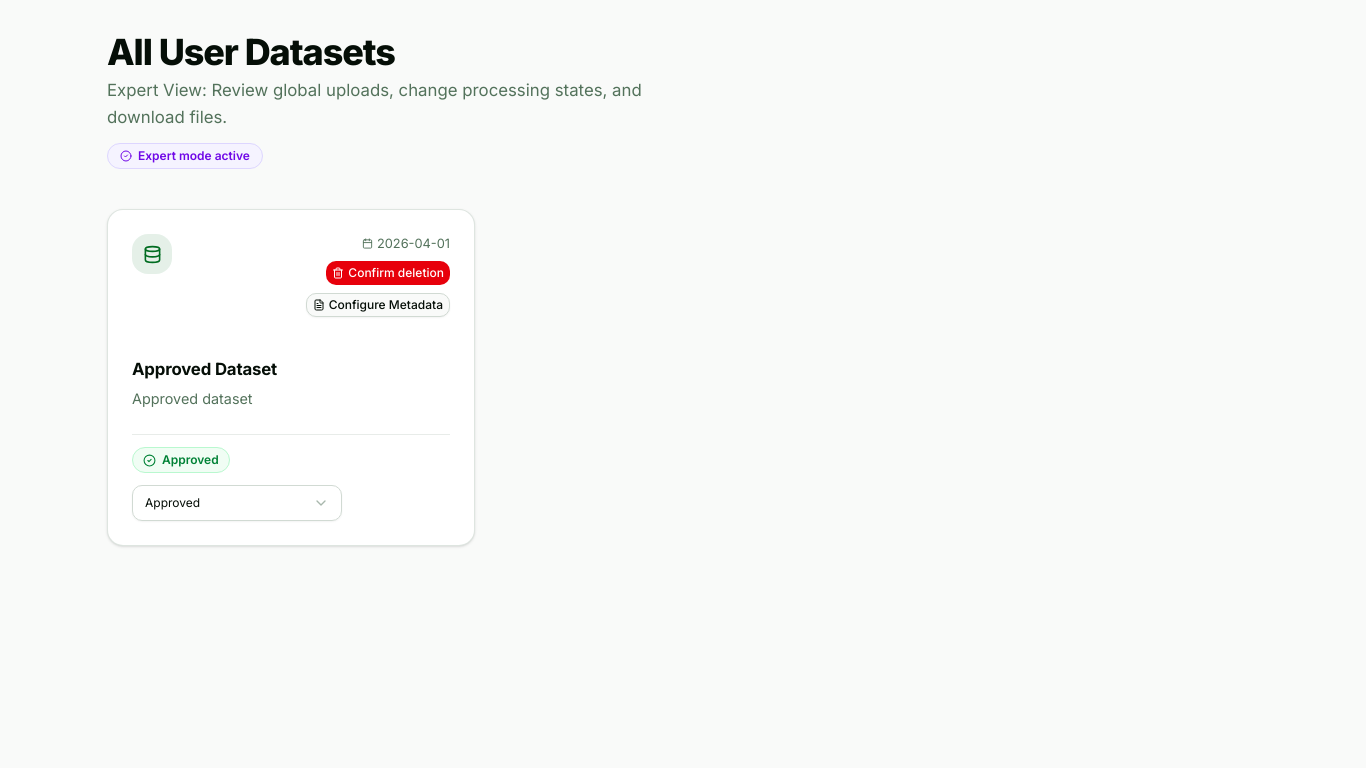
Test: MyDatasetsPage › lets experts confirm a pending deletion request
Expected: the heading "Approved Dataset" is shown, [132,359,277,379]
Click the button "Confirm deletion": point(388, 273) [326,261,450,285]
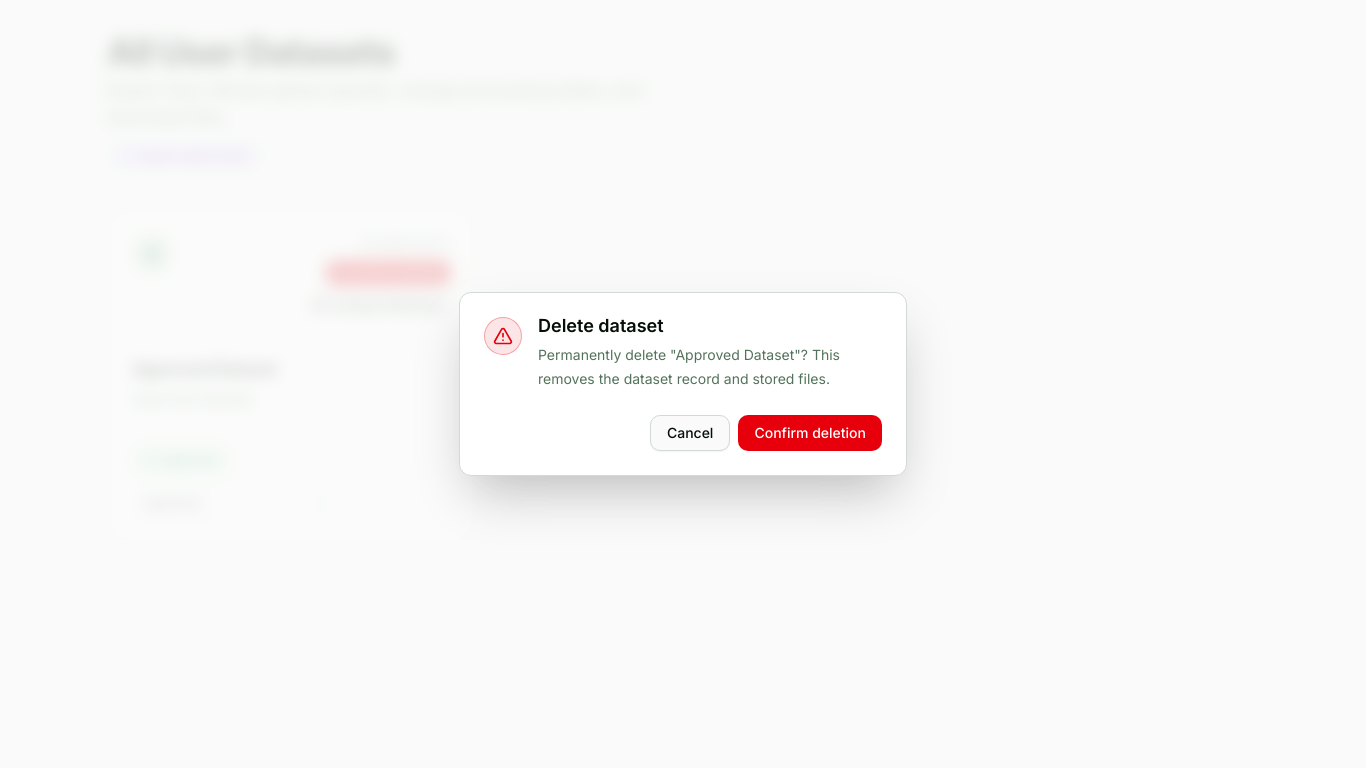
Click the button "Confirm deletion": point(810, 433) [738,415,882,451]
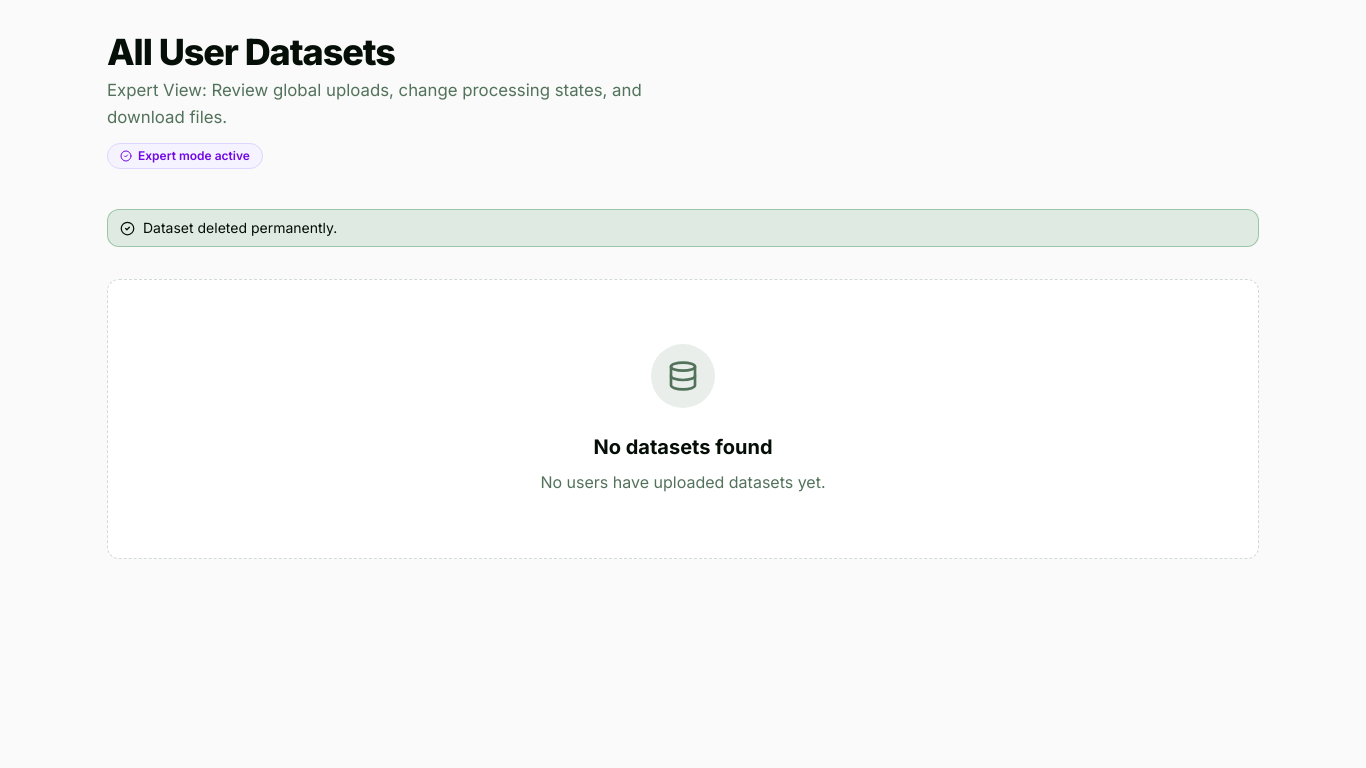
Expected: the text "Dataset deleted permanently." is shown, [143,218,337,238]
